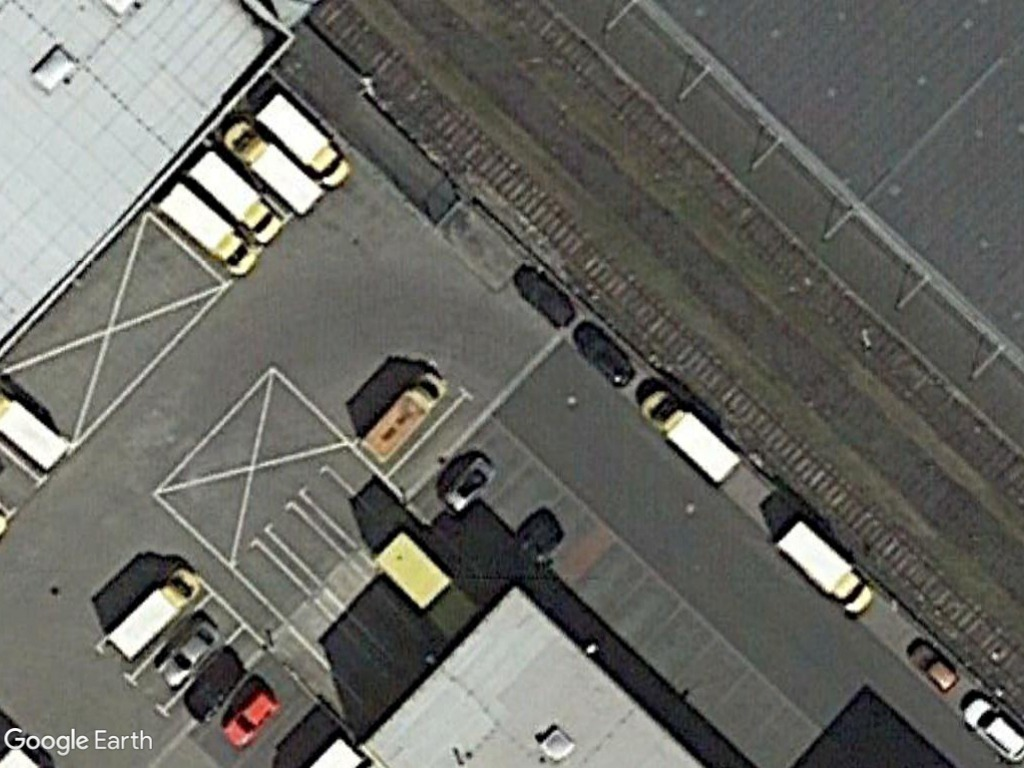car: (157, 620, 222, 691), (962, 691, 1024, 765), (221, 687, 281, 750), (903, 637, 961, 697)
truck: (770, 512, 876, 622), (636, 384, 744, 488), (251, 91, 353, 193), (153, 182, 261, 278), (221, 119, 325, 217), (181, 148, 287, 244), (103, 566, 203, 663), (356, 369, 447, 467)
